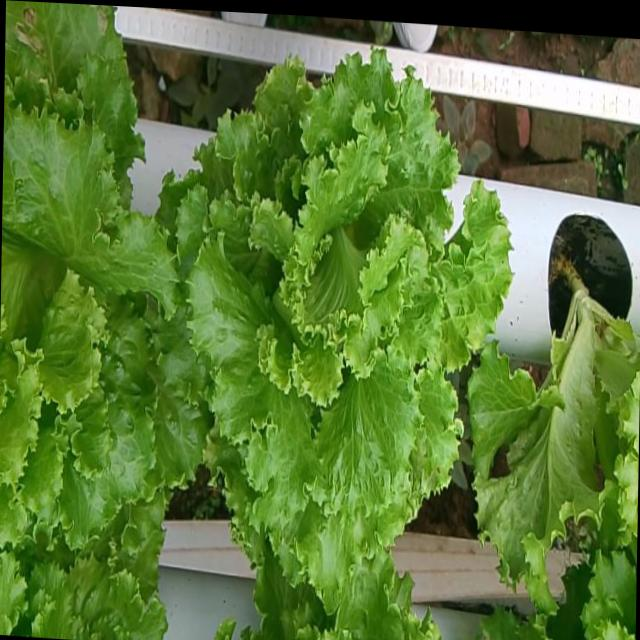Mature: (167, 40, 502, 576), (0, 92, 198, 538)
